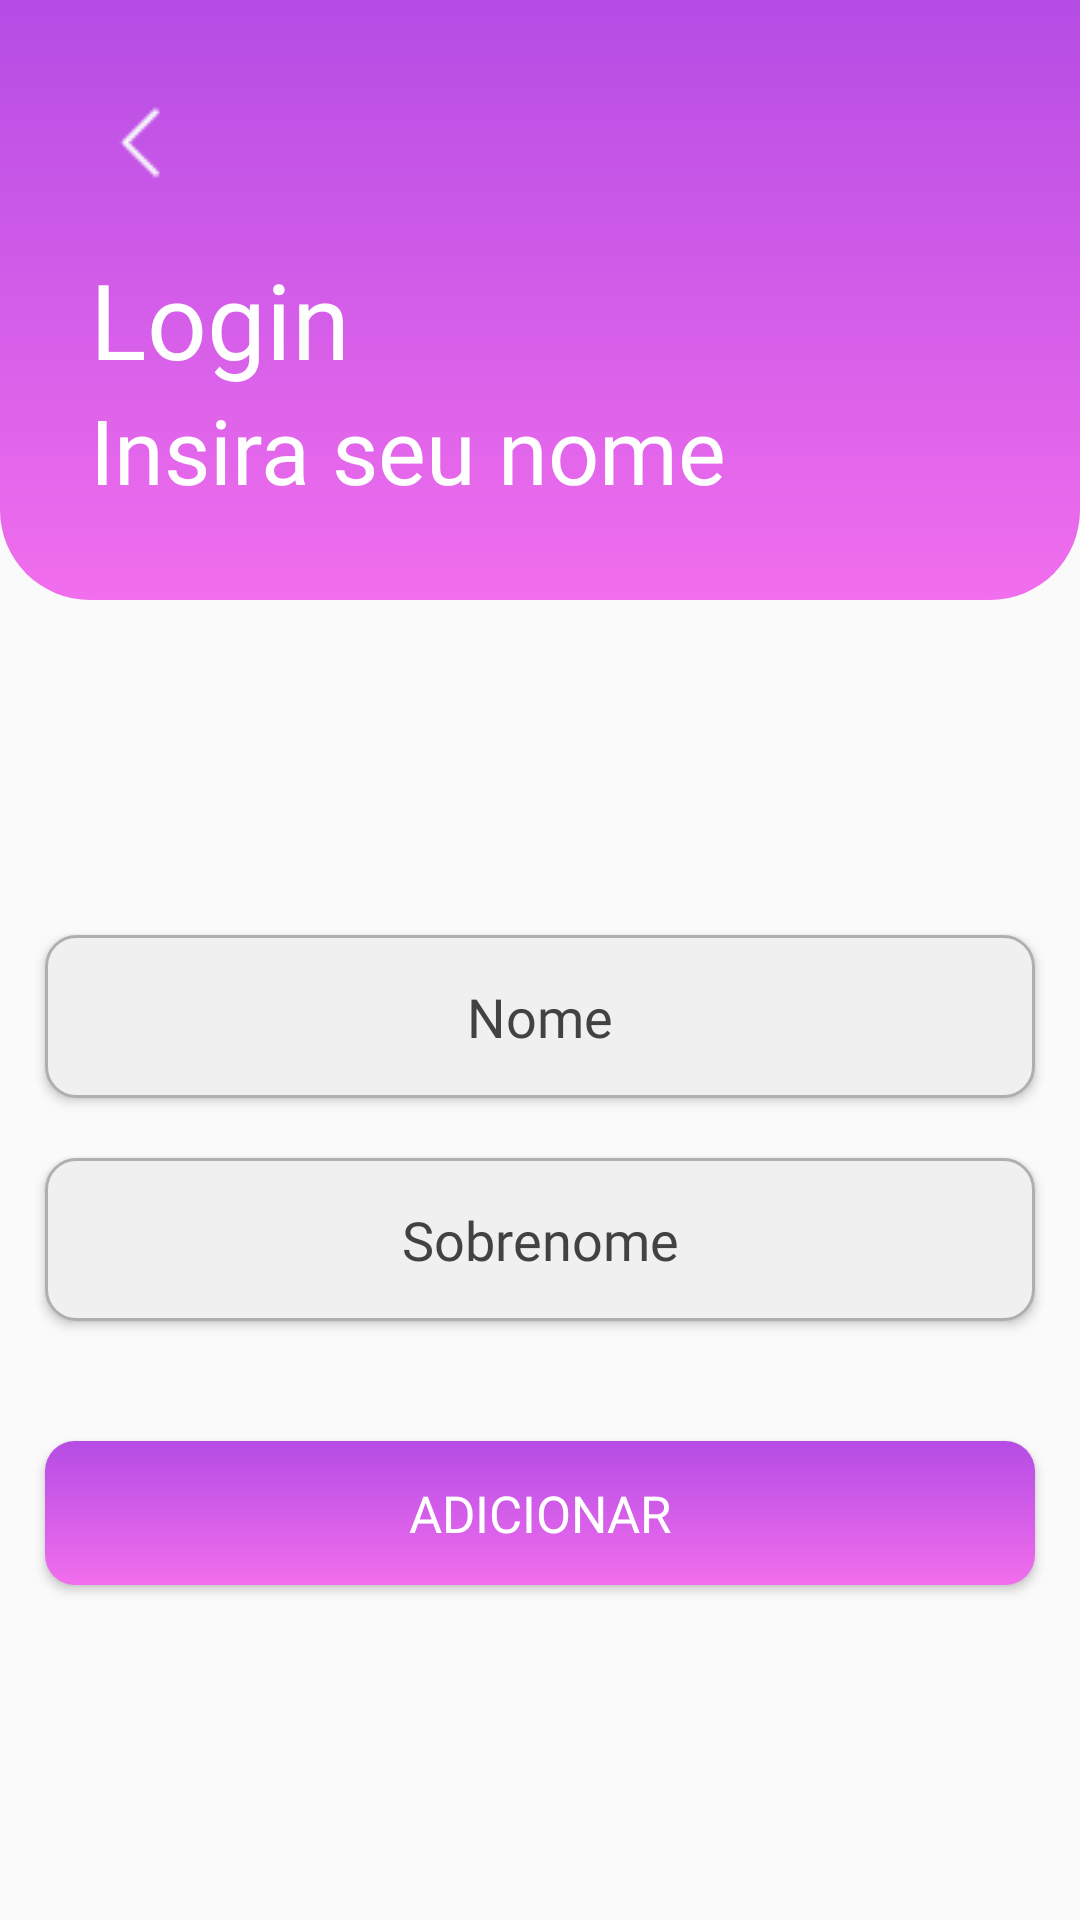

Named icons in this screenshot (1080 × 1920) and their centers, (x=x, y=y):
btnvoltar: (x=140, y=142)
